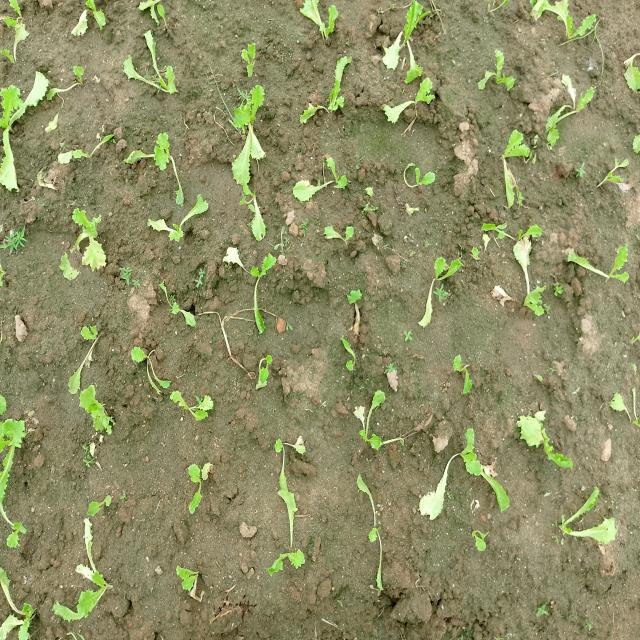Lettuce: (411, 433, 517, 539), (54, 511, 119, 624), (0, 74, 52, 195), (264, 429, 314, 552), (552, 480, 627, 558), (223, 247, 283, 337), (0, 385, 33, 548), (506, 230, 558, 332), (57, 207, 111, 299), (540, 67, 597, 153), (374, 0, 433, 81), (224, 176, 288, 249), (122, 29, 185, 102), (295, 54, 355, 130), (129, 126, 187, 204), (148, 194, 212, 264), (517, 403, 581, 470), (231, 84, 271, 190), (521, 3, 611, 50), (562, 241, 640, 294), (176, 434, 222, 523), (66, 309, 106, 396), (293, 154, 354, 207), (495, 122, 533, 205), (118, 339, 174, 395), (382, 76, 442, 127), (49, 51, 104, 104), (478, 47, 526, 103), (59, 132, 118, 177), (172, 550, 218, 606), (222, 37, 276, 84), (78, 385, 125, 439), (589, 154, 632, 213), (163, 385, 221, 428), (352, 399, 394, 458), (445, 347, 483, 409), (62, 0, 112, 47), (297, 0, 351, 43), (0, 580, 38, 639), (161, 281, 201, 331), (427, 252, 468, 298), (123, 0, 186, 26), (343, 273, 376, 320), (323, 216, 357, 259), (2, 21, 30, 67), (400, 160, 440, 192), (253, 351, 277, 395), (340, 331, 362, 378)
